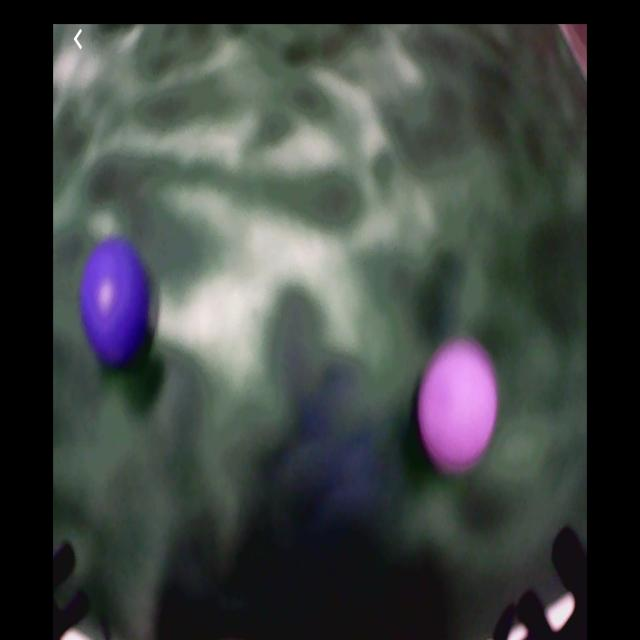ball: (418, 342, 499, 473), (80, 240, 151, 373)
